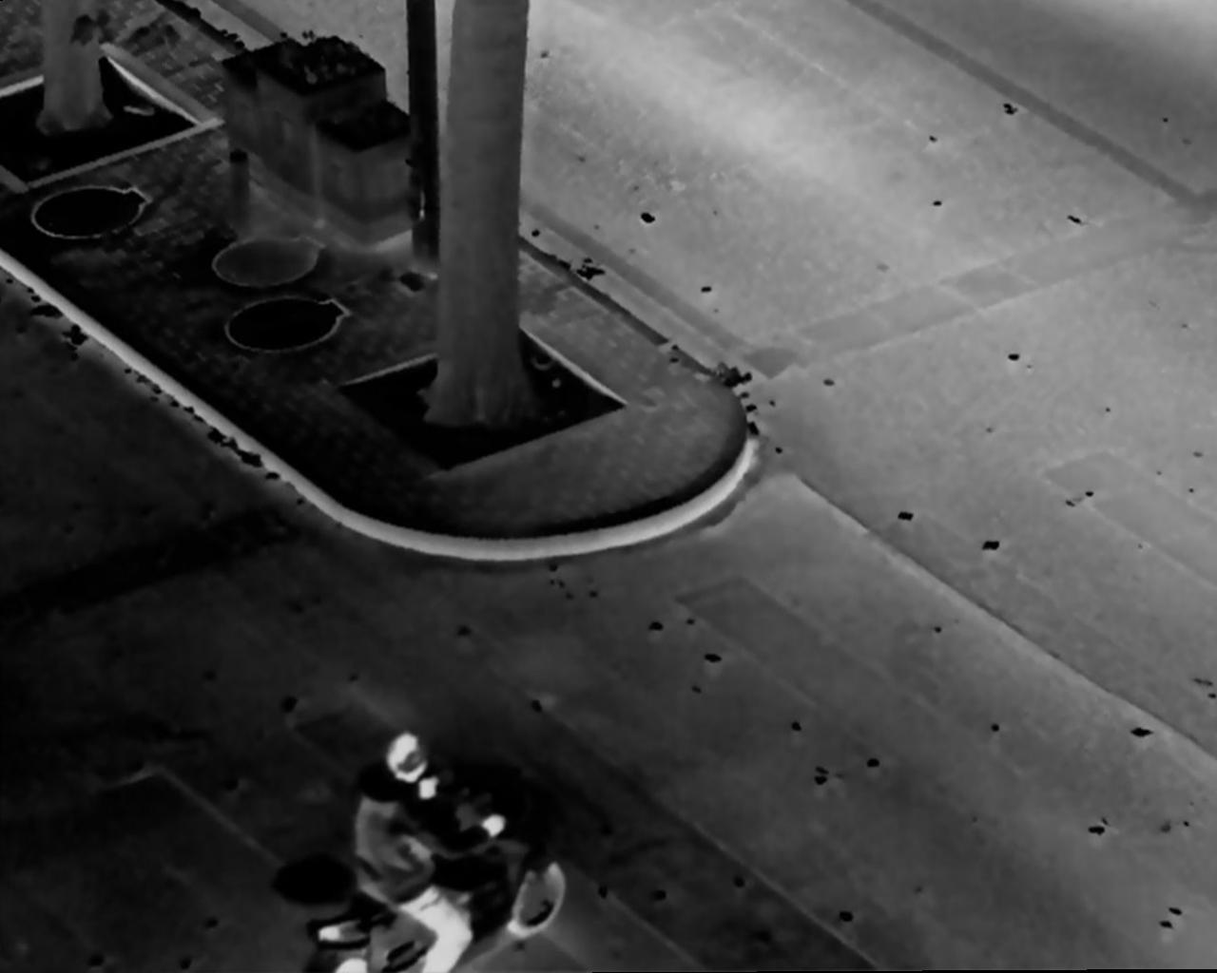person: (338, 714, 477, 973)
